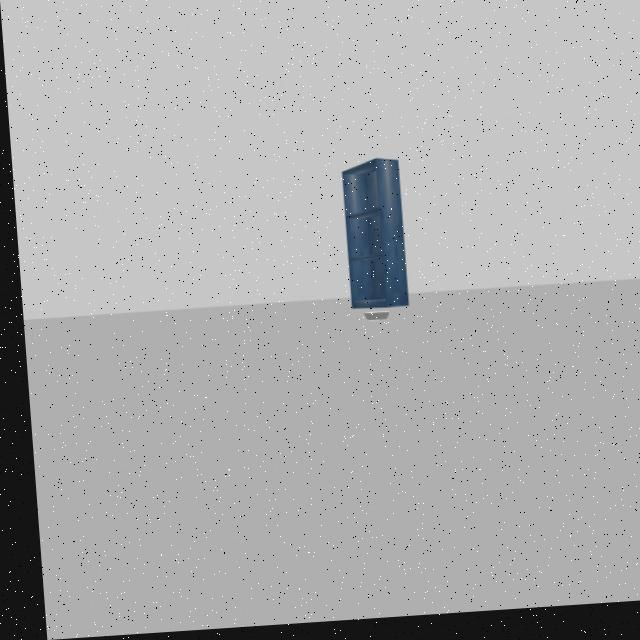bowl: (358, 311, 388, 331)
shelf: (326, 157, 416, 315)
